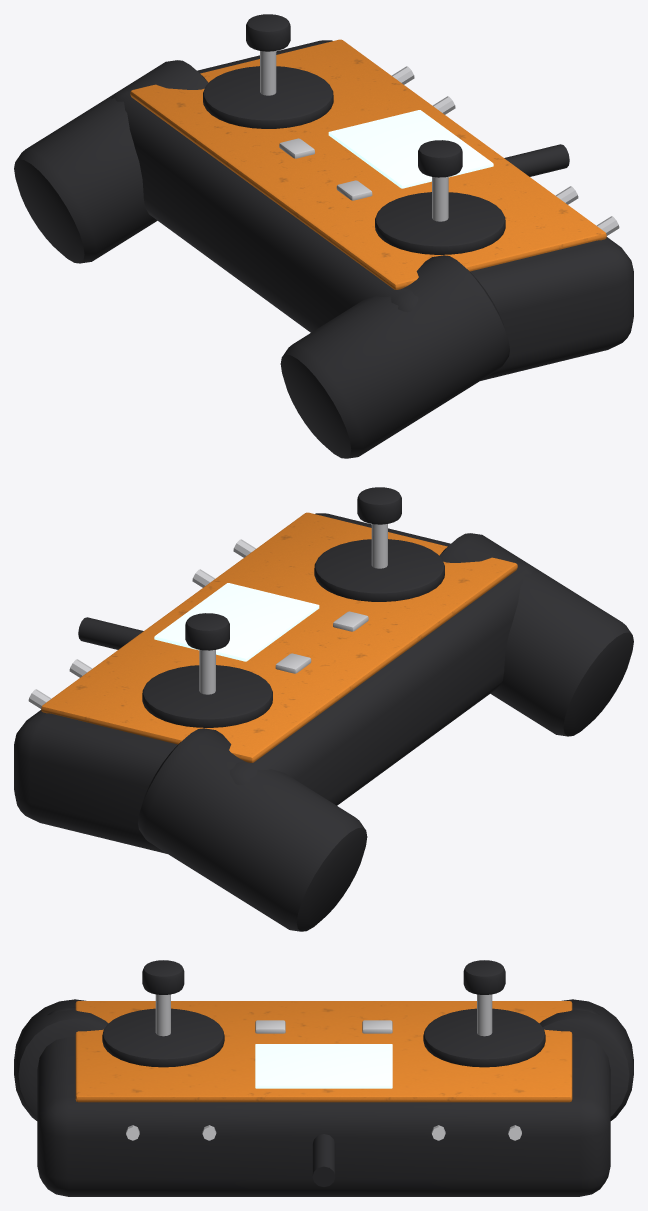
File: SM_FPV_Remote.fbx
3 views of the same model, one above another, from view 1: azimuth 30°, elevation 25°; view 2: azimuth 150°, elevation 25°; view 3: azimuth 270°, elevation 25° (orthographic). The views are drawn at different scales.
Visible parts, largest first — view 1: SM_FPV_Remote; view 2: SM_FPV_Remote; view 3: SM_FPV_Remote.
Part boxes in pixels (box(x1,y1,x2,y2)): SM_FPV_Remote: box(14, 14, 633, 458); SM_FPV_Remote: box(14, 487, 633, 931); SM_FPV_Remote: box(14, 960, 633, 1196).
Size of the model in its own units: 0.1126 by 0.0632 by 0.1622.
